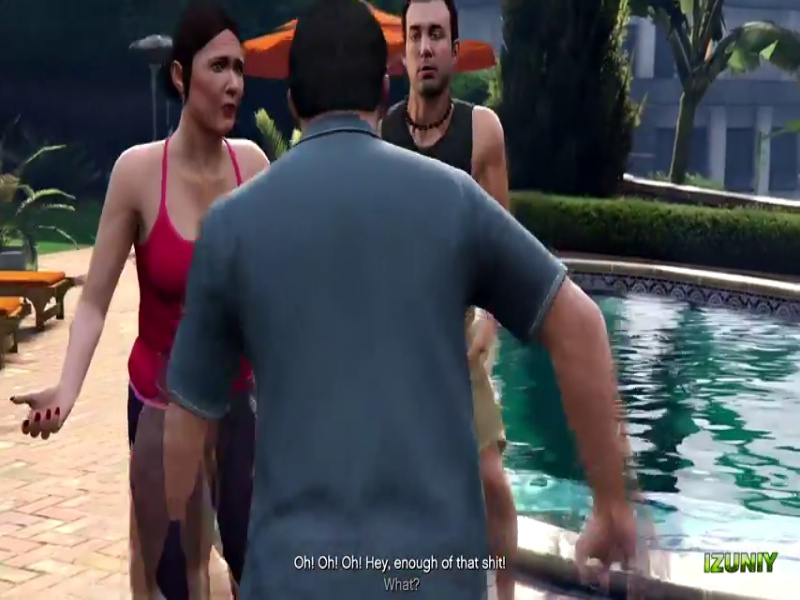human: (52, 5, 278, 593)
